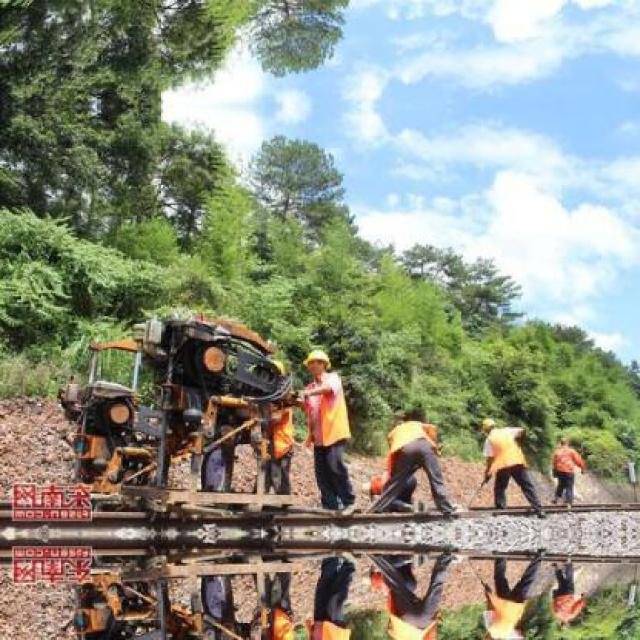Reflective-Jacket: (377, 415, 446, 503), (295, 373, 357, 455), (478, 426, 531, 476), (551, 446, 583, 480)
Safety-Helmet: (298, 344, 337, 373), (476, 415, 502, 435)
